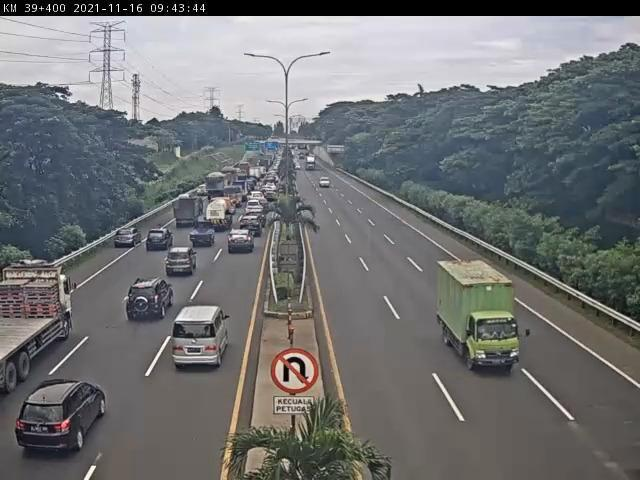car: (17, 379, 107, 455), (174, 305, 228, 369), (128, 278, 174, 322), (166, 248, 198, 278), (230, 230, 257, 257), (191, 222, 217, 248), (148, 229, 174, 253), (115, 228, 144, 248), (241, 217, 263, 237), (247, 212, 267, 228), (247, 200, 265, 214), (249, 193, 265, 202), (320, 178, 332, 189), (296, 164, 303, 171)
truck: (436, 259, 520, 376), (1, 260, 73, 396), (174, 197, 205, 229), (207, 197, 235, 231), (207, 174, 229, 201), (226, 187, 245, 208), (307, 157, 317, 171)
